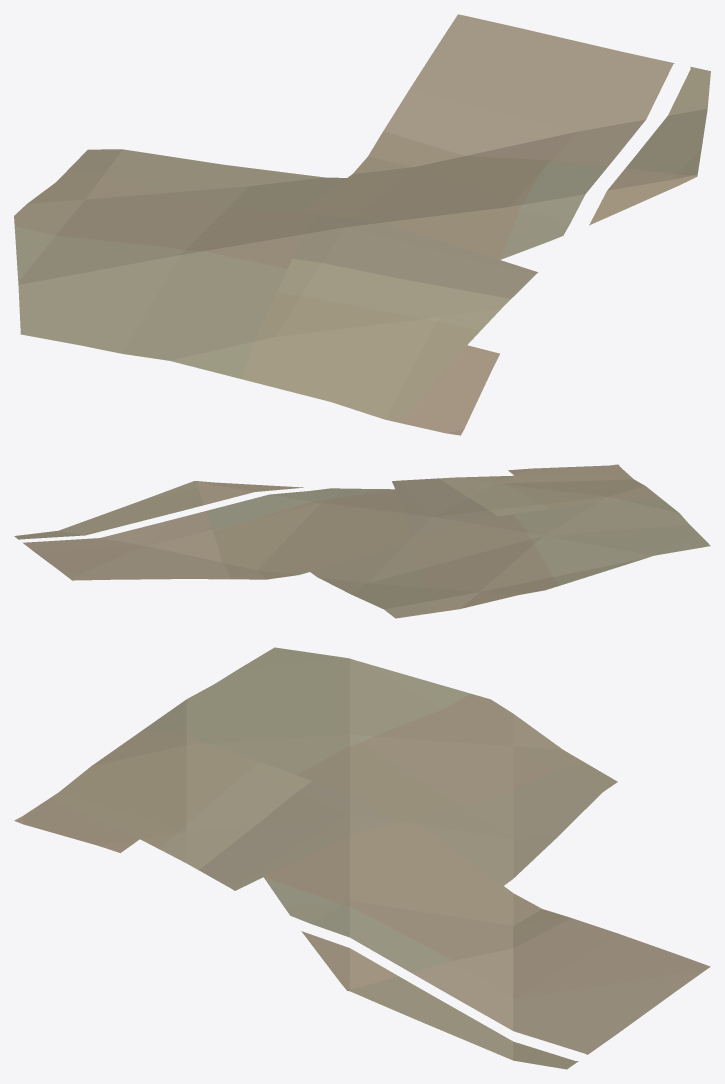
File: farm_-25_-20_soil.glb
3 views of the same model, one above another, from view 1: azimuth 30°, elevation 25°; view 2: azimuth 150°, elevation 25°; view 3: azimuth 270°, elevation 25° (orthographic). The views are drawn at different scales.
Visible parts, largest first — view 1: geometry_0; view 2: geometry_0; view 3: geometry_0.
Boxes of the visible parts, x1=… form: geometry_0: x1=14, y1=14, x2=710, y2=435; geometry_0: x1=14, y1=464, x2=710, y2=618; geometry_0: x1=14, y1=647, x2=710, y2=1069.
Bounding box in the file's own units: 418 × 39.36 × 341.
